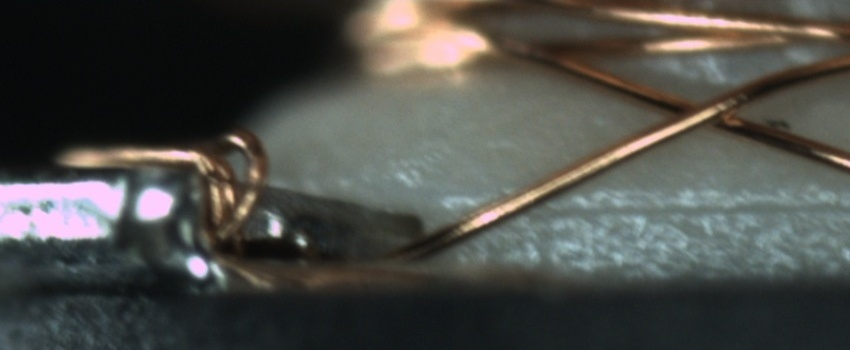CL: (641, 85, 767, 138)
DL: (551, 178, 849, 244)
TE: (49, 114, 280, 252)
